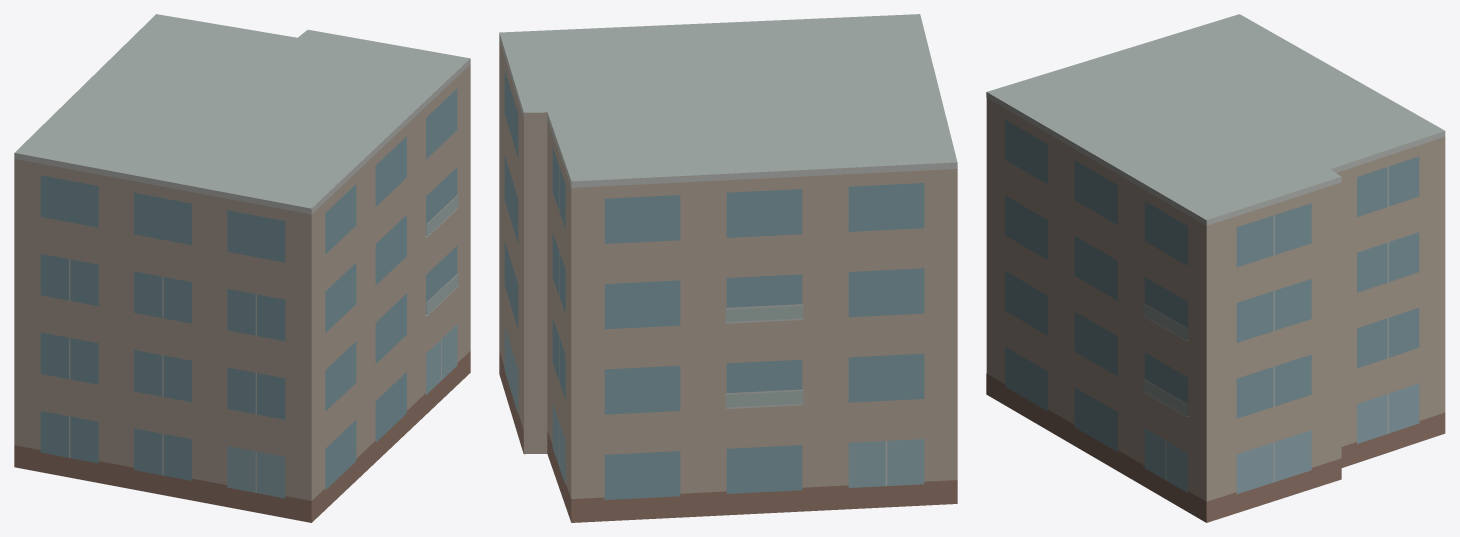
File: survey-upis-32591226.glb
3 renders of one model, left to right at view 1: azimuth 30°, elevation 25°; view 2: azimuth 150°, elevation 25°; view 3: azimuth 270°, elevation 25°, orthographic. The views are drawn at different scales.
Visible parts, largest first — view 1: survey-upis-32591226.tmp; view 2: survey-upis-32591226.tmp; view 3: survey-upis-32591226.tmp.
Part boxes in pixels (<box>): survey-upis-32591226.tmp: <box>14,14,470,522</box>; survey-upis-32591226.tmp: <box>499,14,957,522</box>; survey-upis-32591226.tmp: <box>986,14,1445,522</box>.
Size of the model in its own units: 18.94 by 12.95 by 17.8.
